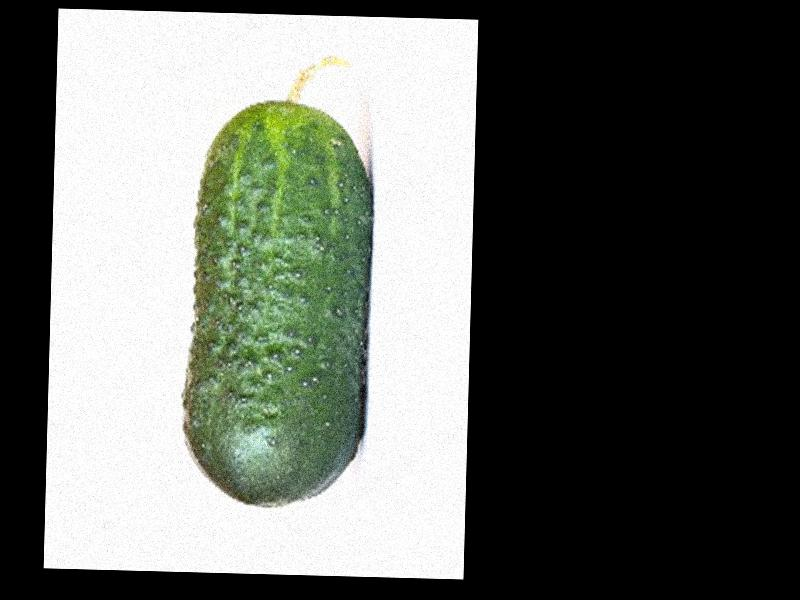Cucumber: (182, 49, 374, 505)
